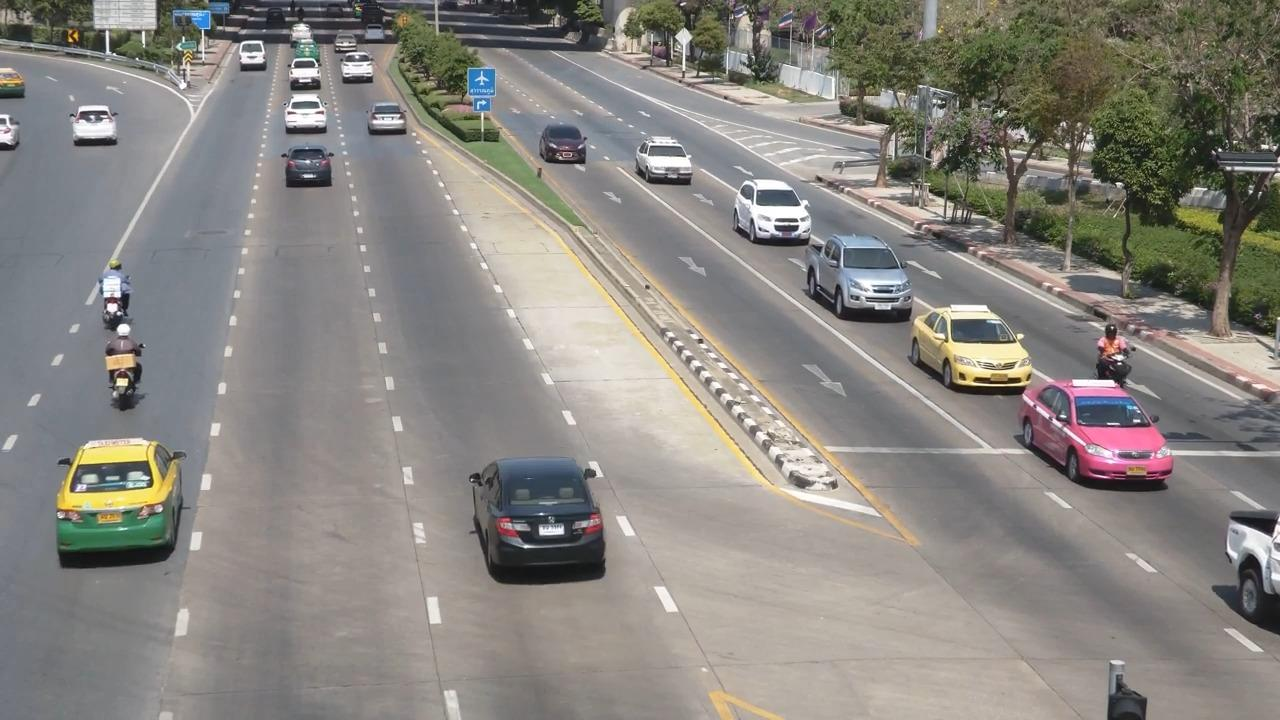CAR: (459, 436, 630, 587), (37, 422, 199, 574), (1020, 375, 1171, 494), (907, 298, 1034, 393), (807, 224, 917, 320), (730, 170, 820, 245), (63, 107, 135, 169), (632, 130, 698, 191), (275, 139, 344, 197), (356, 94, 424, 148), (534, 114, 594, 172), (276, 91, 342, 137), (282, 72, 332, 116), (334, 47, 382, 91), (232, 33, 276, 78), (336, 51, 380, 87), (0, 53, 31, 104), (285, 56, 328, 91), (0, 109, 26, 156), (355, 21, 389, 50), (286, 24, 316, 53)
MOTOR: (97, 314, 154, 418), (88, 247, 141, 338), (1089, 317, 1135, 392)
